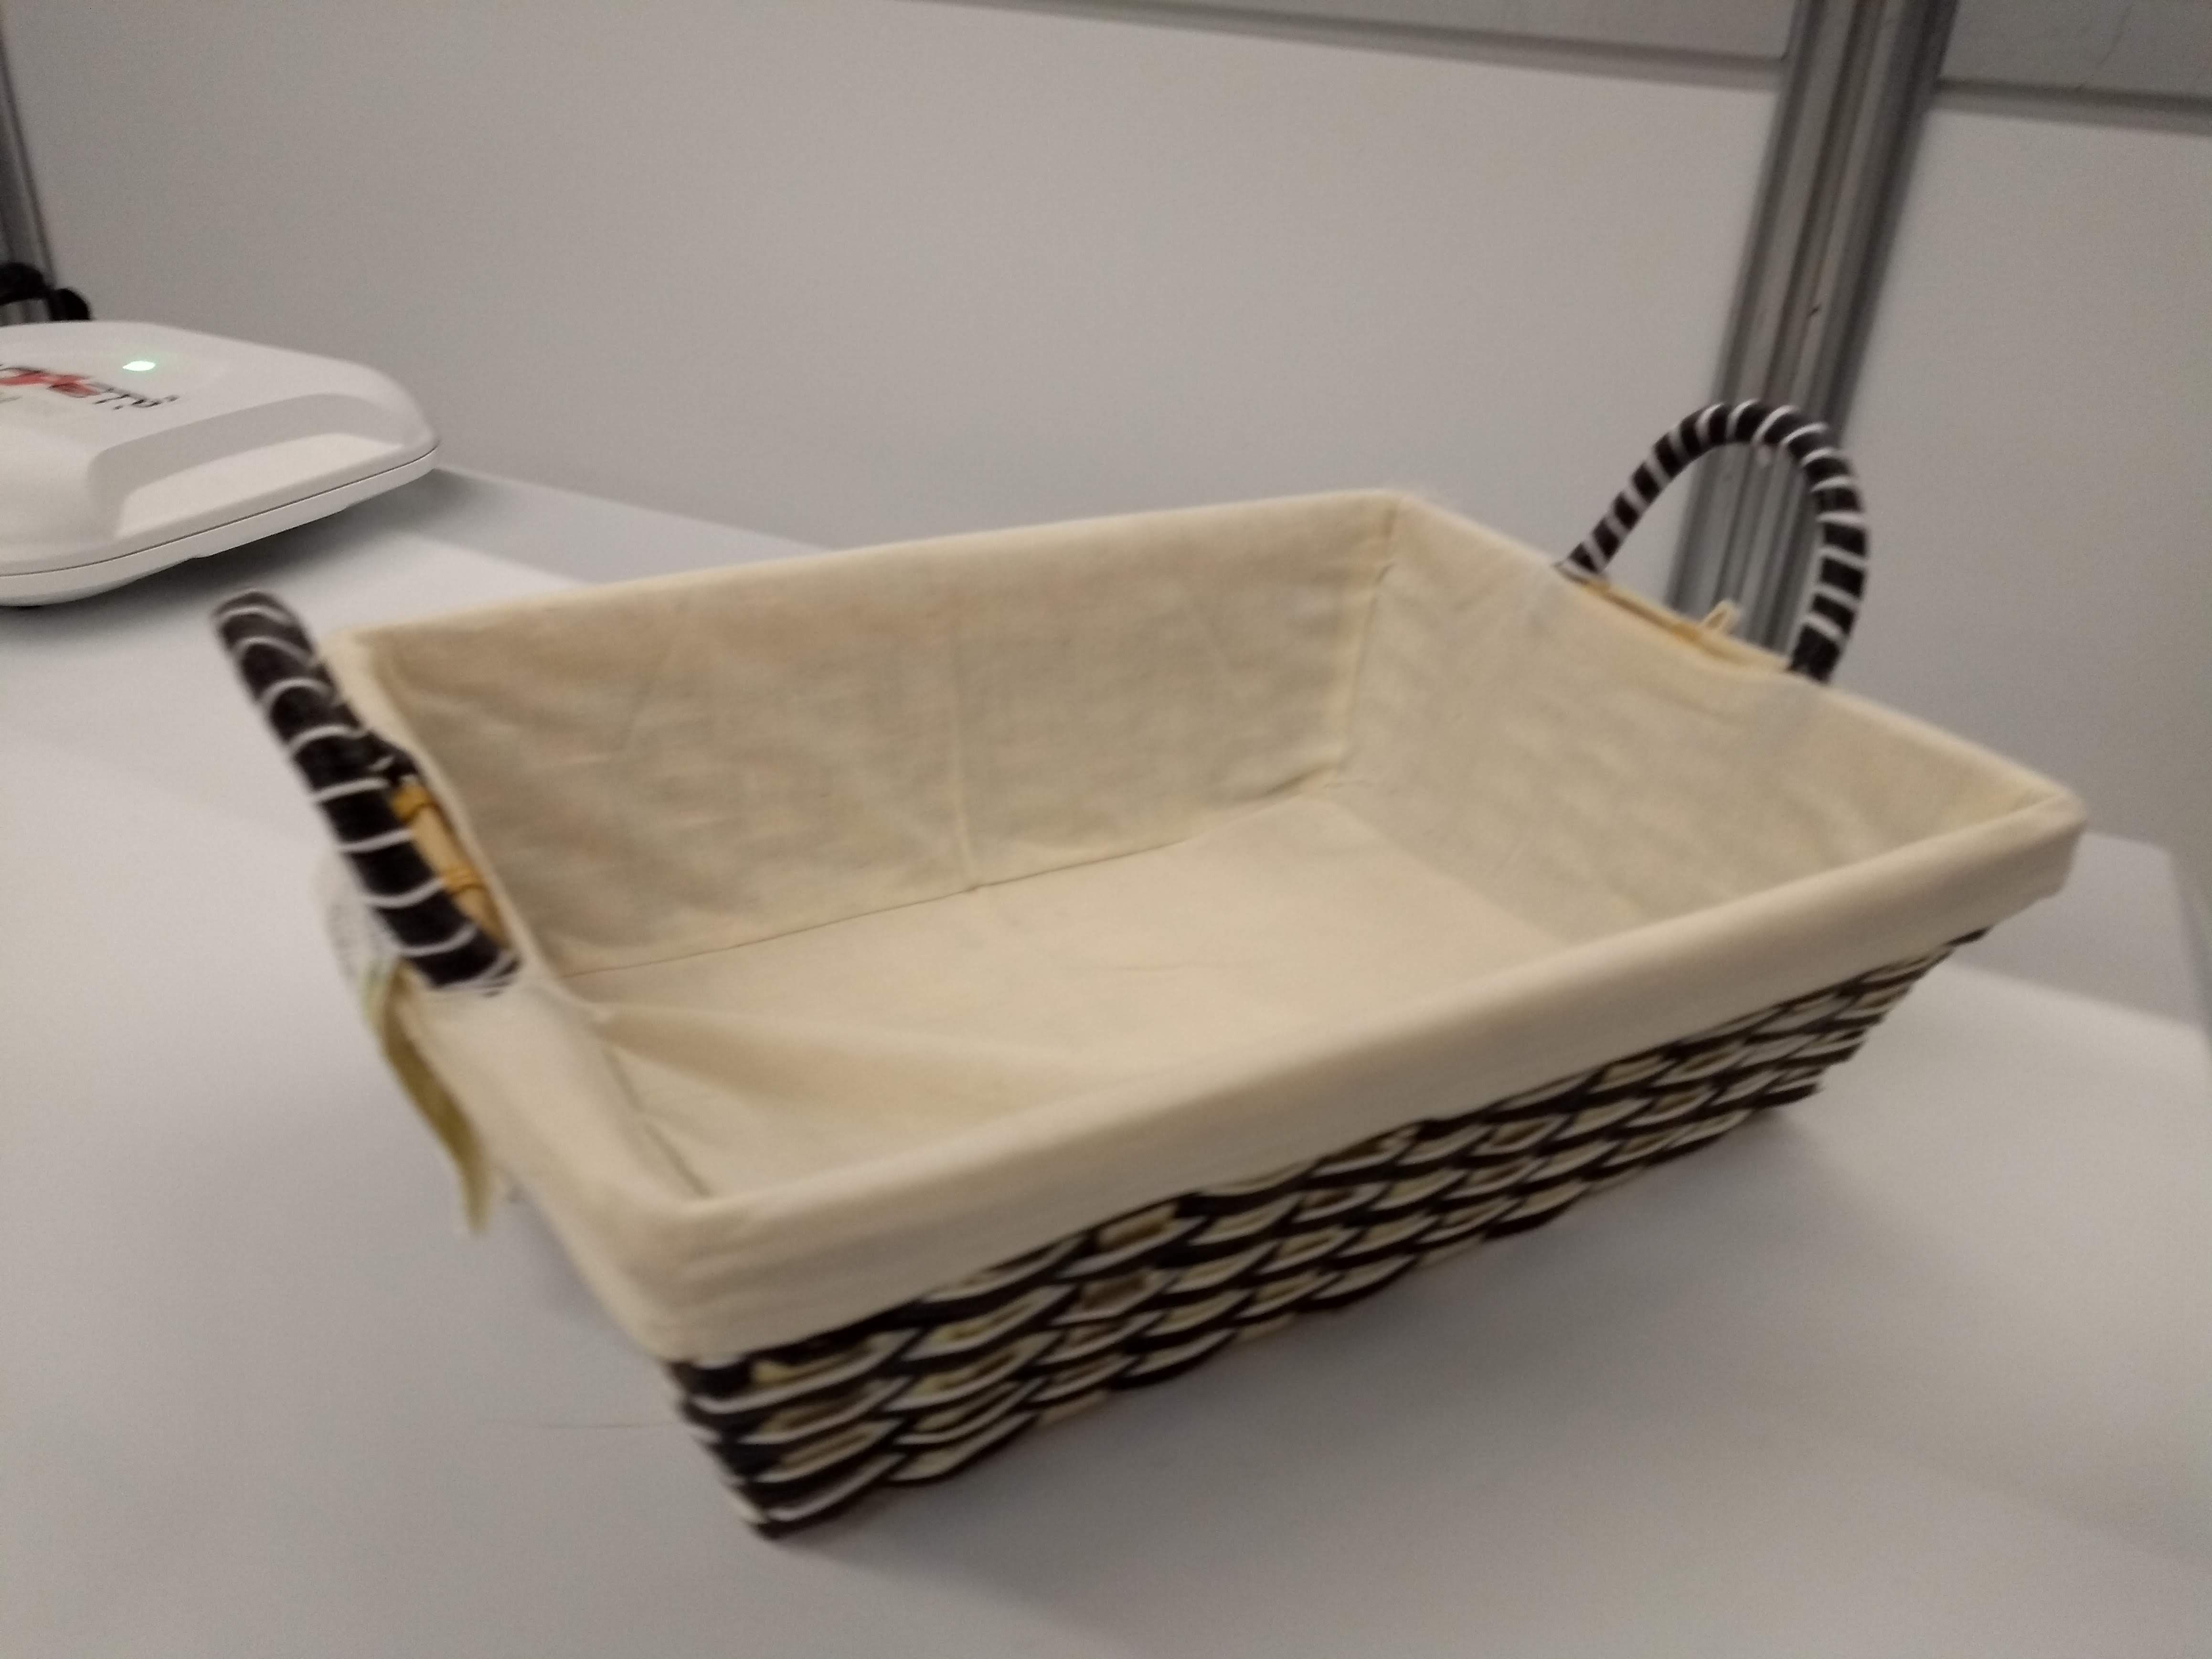basket: (195, 376, 2097, 1549)
